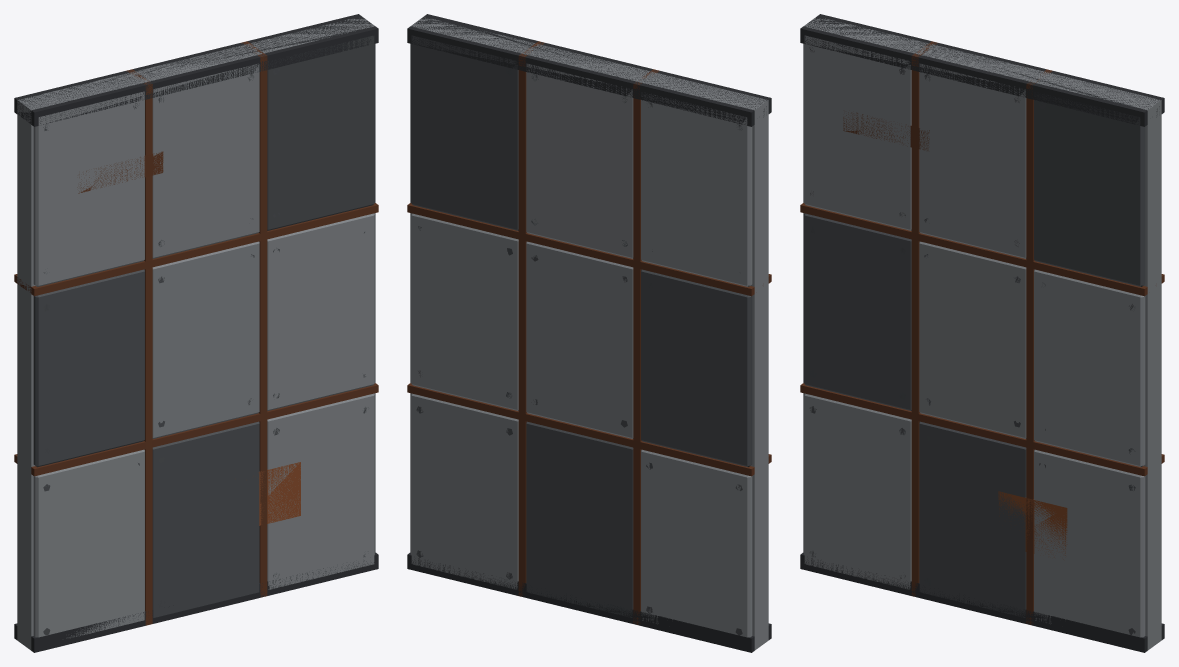
File: piece_wall_steel.fbx
3 views of the same model, side by side, from view 1: azimuth 30°, elevation 25°; view 2: azimuth 150°, elevation 25°; view 3: azimuth 330°, elevation 25° (orthographic).
Parts seen in each view (by area): view 1: piece_wall_steel; view 2: piece_wall_steel; view 3: piece_wall_steel.
Part boxes in pixels (box(x1,y1,x2,y2)): piece_wall_steel: box(14, 14, 378, 652); piece_wall_steel: box(407, 14, 771, 652); piece_wall_steel: box(800, 14, 1164, 652).
Size of the model in its own units: 2 by 3 by 0.2.
